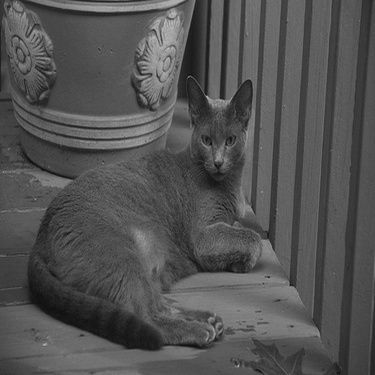cat: (23, 72, 264, 352)
